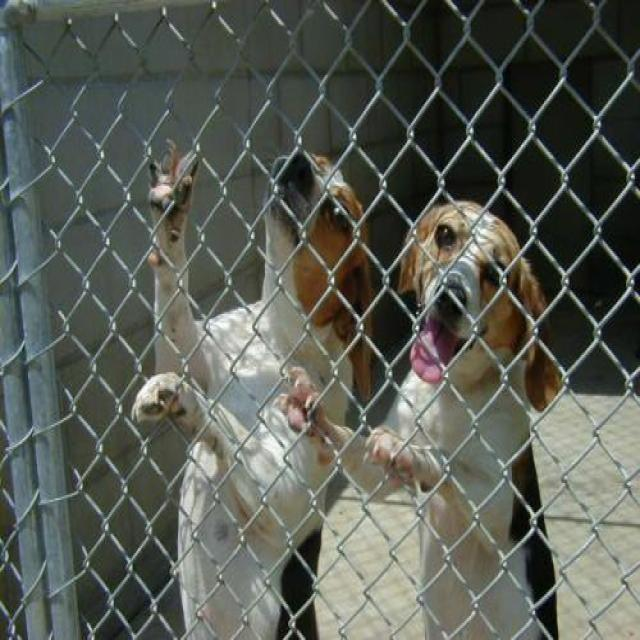Dogs: (279, 196, 562, 638), (132, 142, 376, 638)
